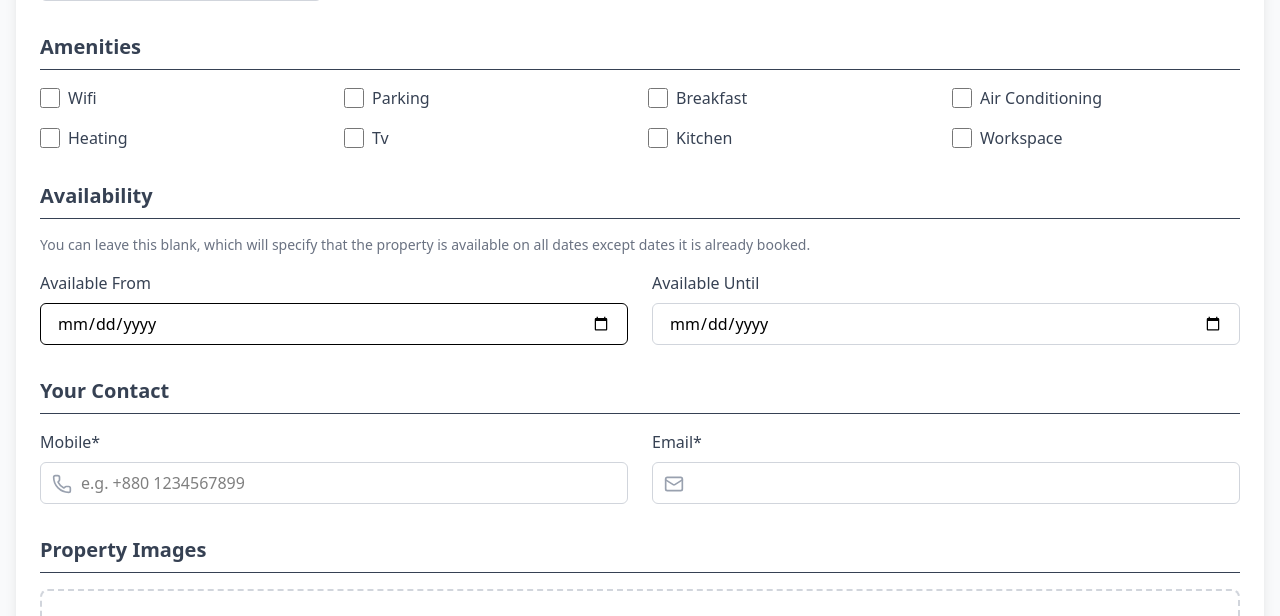
Test: PropertyForm Component › validates date range and shows error message for invalid range
(page scrolled)
Type "2025-06-01" into the date field labelled "Available From" at (334, 324), box [40, 303, 628, 345]
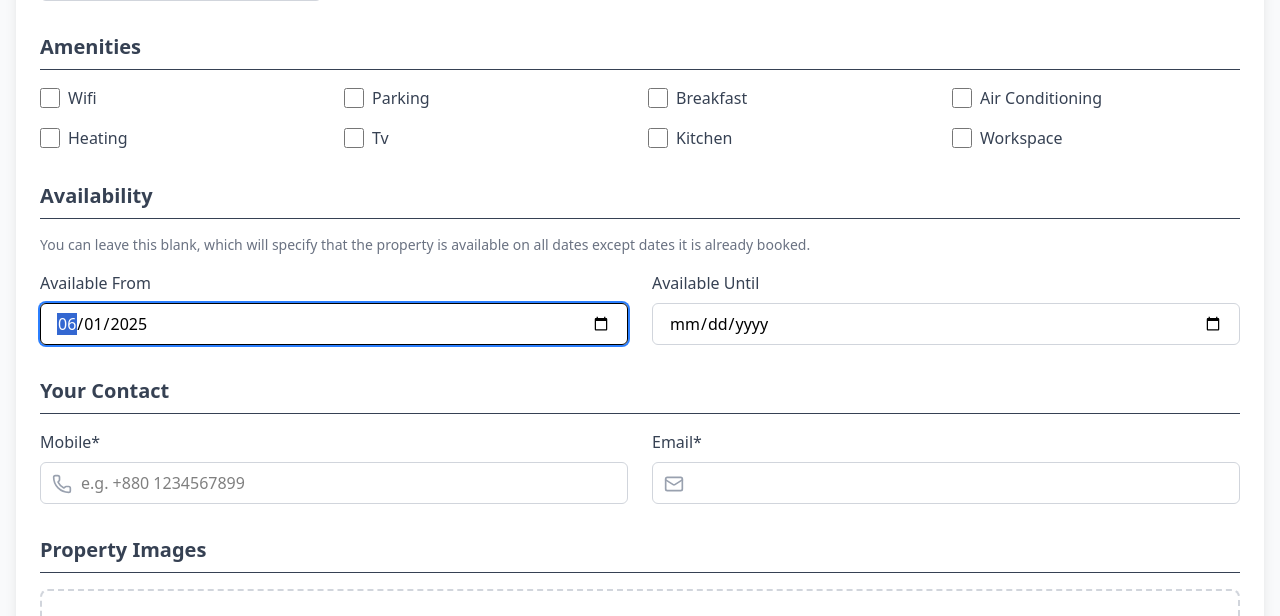
Type "2025-05-01" into the date field labelled "Available Until" at (946, 324), box [652, 303, 1240, 345]
(page scrolled)
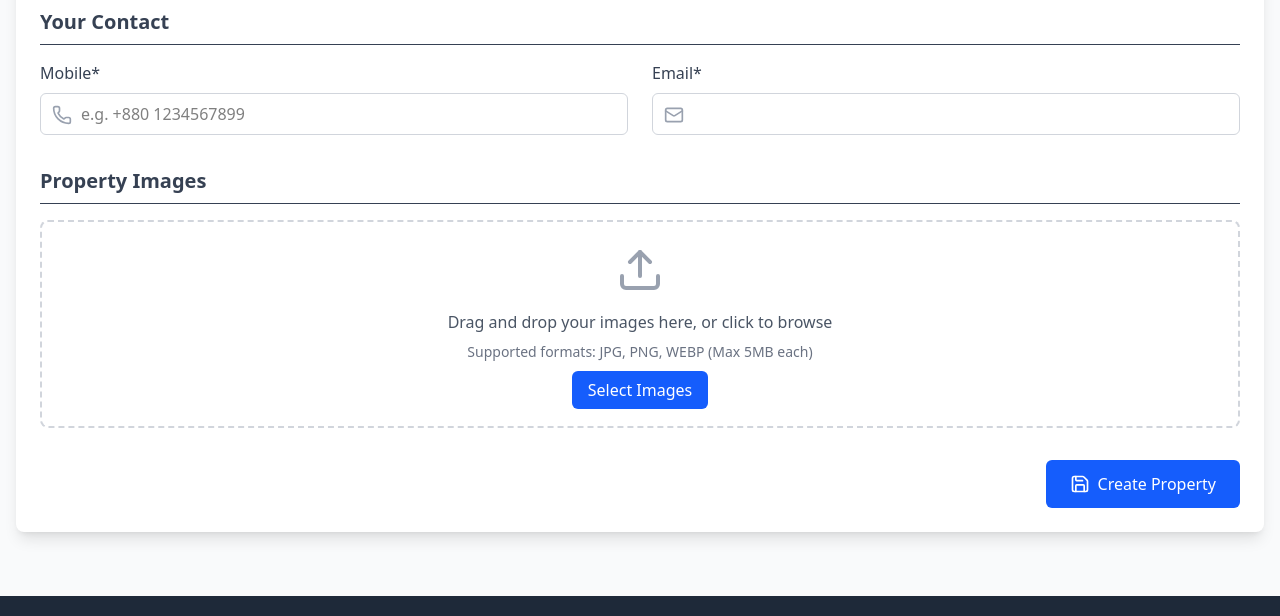
Submit form
Click the button "Create Property" at (1143, 484), box [1046, 460, 1240, 508]
(page scrolled)
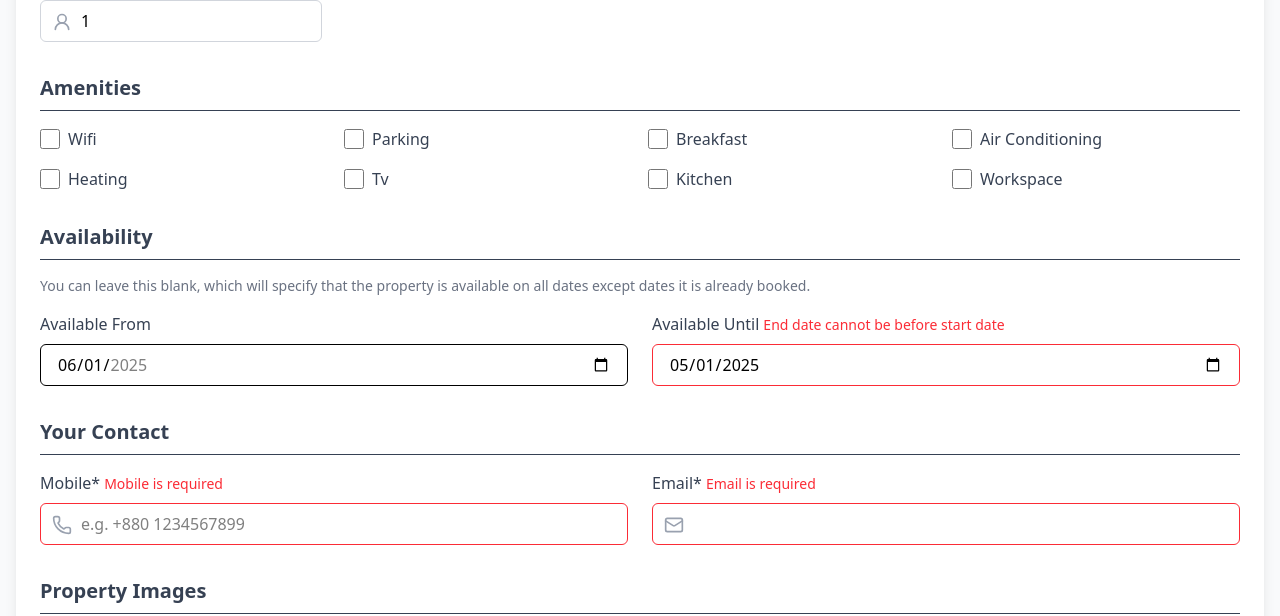
Now the text "End date cannot be before start date" is shown, box [763, 315, 1005, 334]
